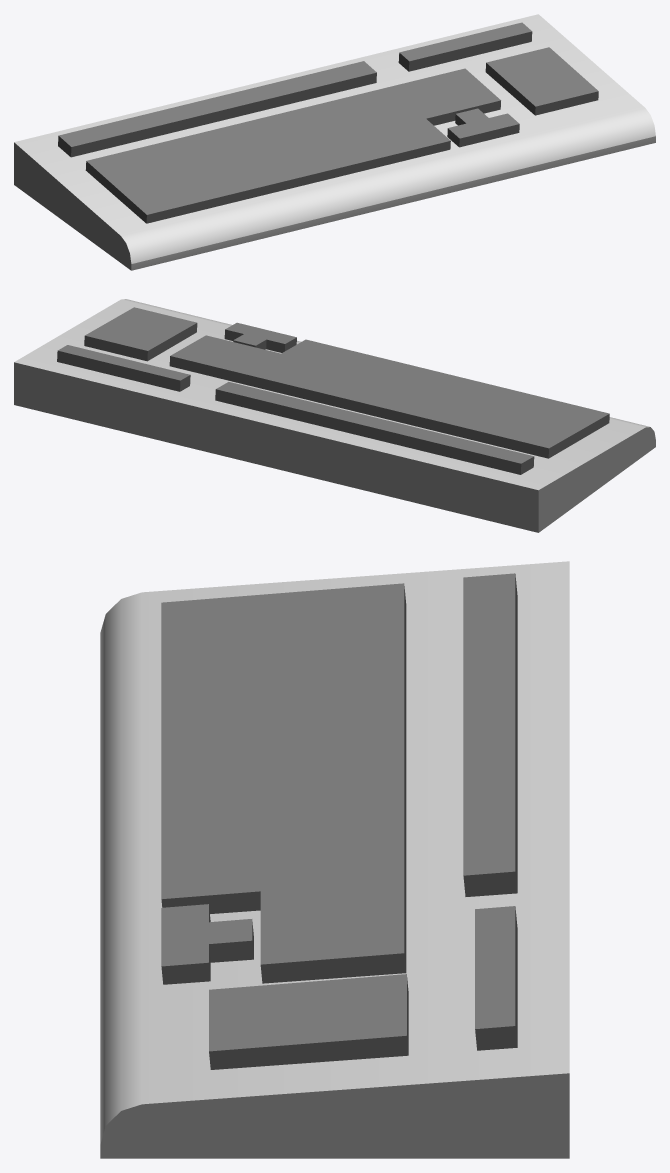
The model's file is keyboard.glb.
The picture shows the model from 3 angles, top to bottom: view 1: azimuth 30°, elevation 25°; view 2: azimuth 150°, elevation 25°; view 3: azimuth 270°, elevation 25°; orthographic projection. The views are drawn at different scales.
Visible parts, largest first — view 1: Computer_Keyboard; view 2: Computer_Keyboard; view 3: Computer_Keyboard.
Part boxes in pixels (x1,y1,x2,y2): Computer_Keyboard: (14, 14, 655, 270); Computer_Keyboard: (14, 299, 655, 532); Computer_Keyboard: (100, 561, 569, 1158).
Bounding box in the file's own units: 0.4386 × 0.0413 × 0.17.
1 material, 1 textured.
